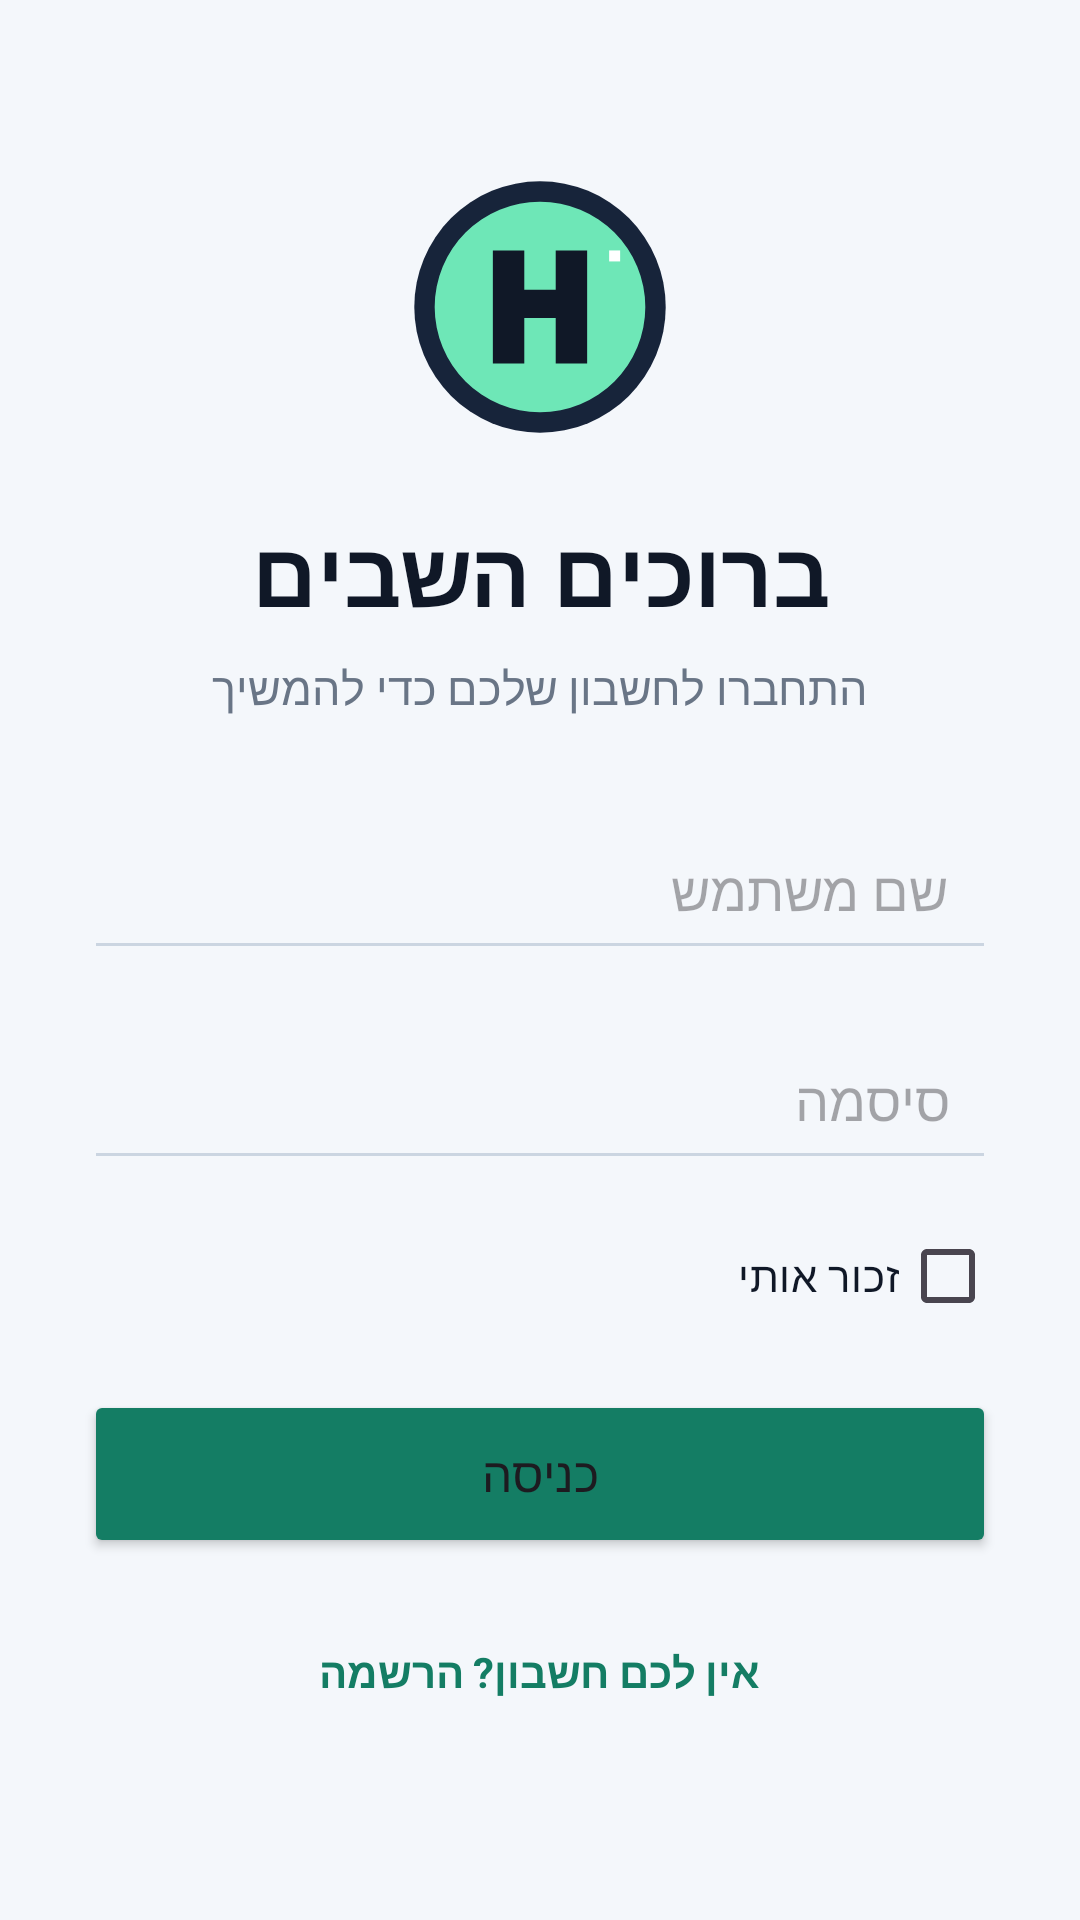

Point at icon controls on the screen. Image size 1080x1920, points as point (x, y).
סמל האפליקציה: point (540, 307)
